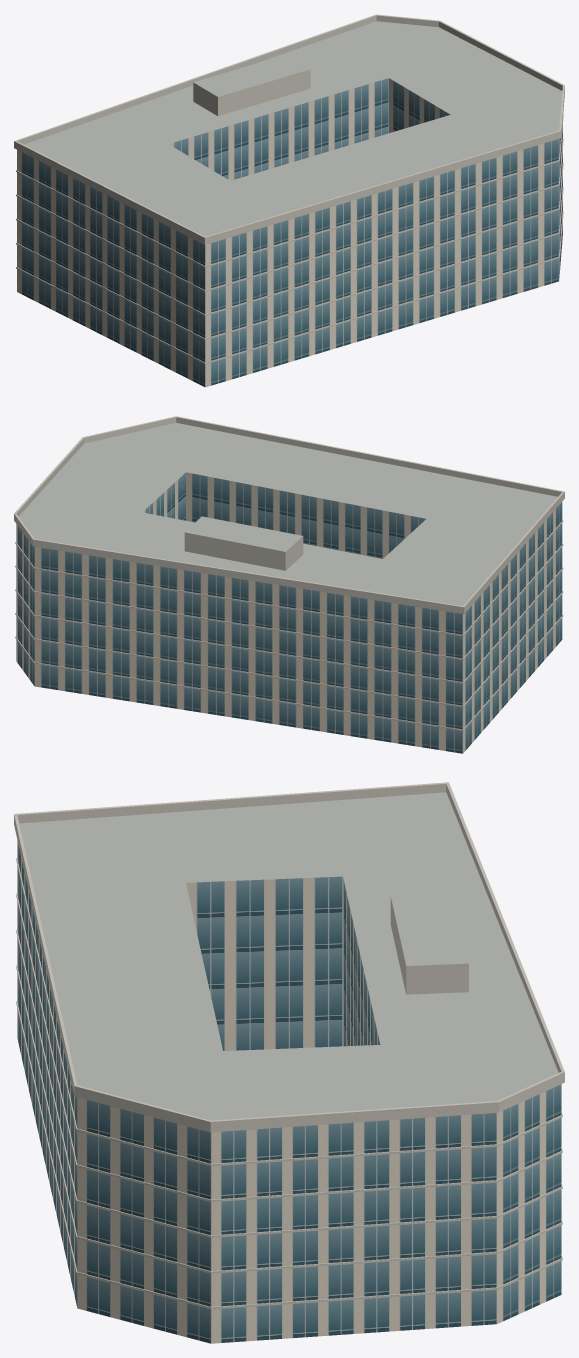
File: xingzhenglou.glb
3 renders of one model, top to bottom at view 1: azimuth 30°, elevation 25°; view 2: azimuth 150°, elevation 25°; view 3: azimuth 270°, elevation 25°, orthographic. The views are drawn at different scales.
Visible parts, largest first — view 1: 行政楼; view 2: 行政楼; view 3: 行政楼.
Boxes of the visible parts, <box> form: 行政楼: <box>14,14,564,387</box>; 行政楼: <box>14,416,564,753</box>; 行政楼: <box>14,782,564,1343</box>.
Size of the model in its own units: 76.39 by 25.5 by 52.36.
Materials: 3 (1 with a texture image).
